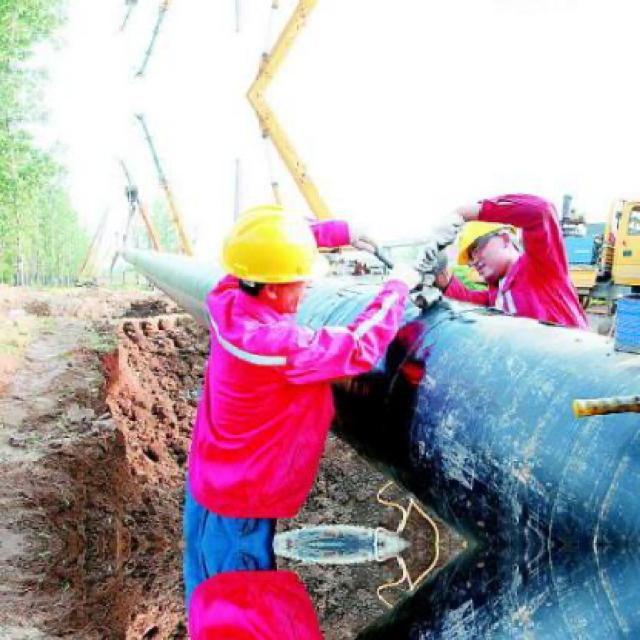helmet: (211, 196, 332, 318), (446, 218, 529, 286)
